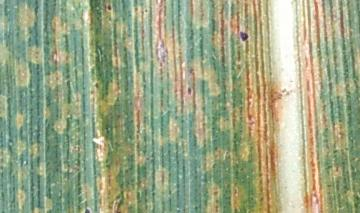tarspot: (113, 195, 124, 213), (237, 30, 250, 43), (304, 77, 312, 93), (214, 197, 220, 213), (186, 85, 193, 97), (104, 2, 113, 11), (142, 6, 150, 15), (211, 188, 220, 196), (83, 206, 92, 213), (93, 80, 99, 90), (234, 62, 241, 70), (132, 6, 140, 13), (107, 13, 113, 22), (120, 15, 127, 22), (268, 69, 273, 78)
